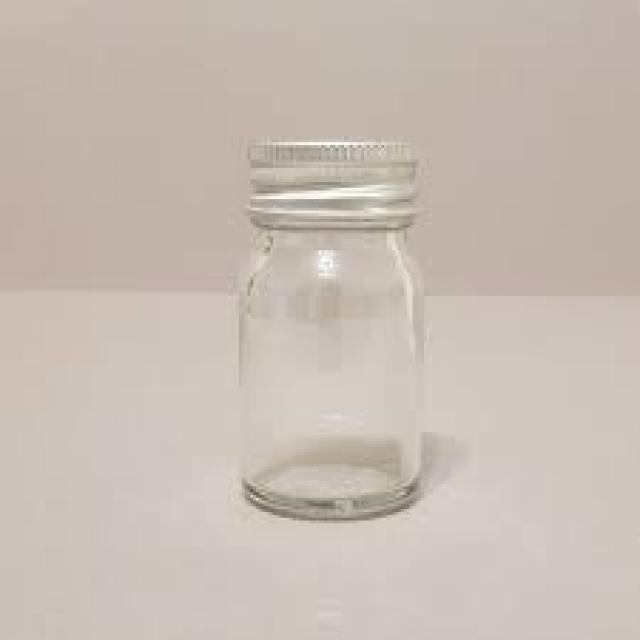Glass-Non-Biodegradable but Recyclable-: (235, 141, 428, 520)
